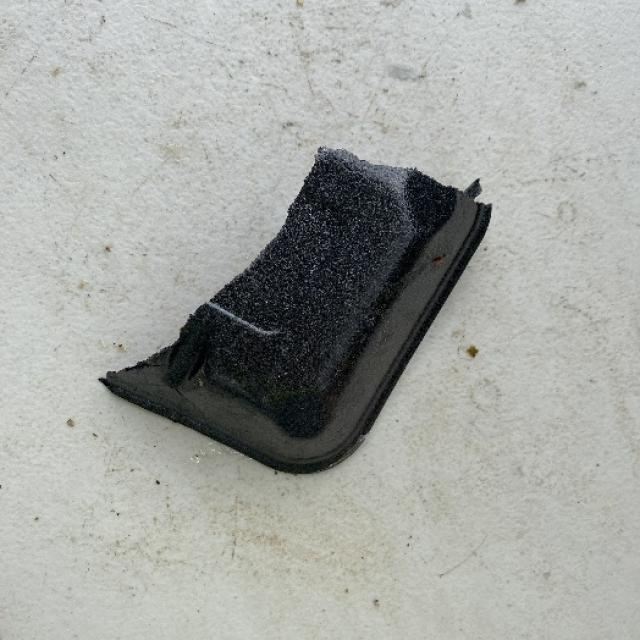styrofoam: (96, 143, 494, 475)
